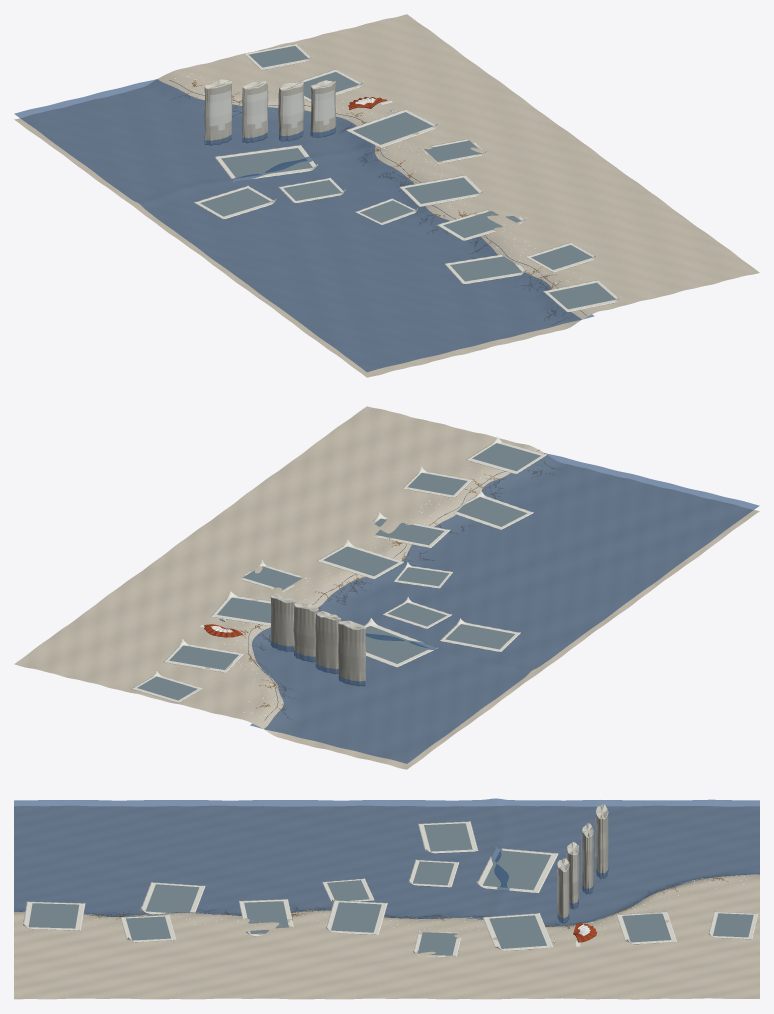
3 views of the same model, one above another, from view 1: azimuth 30°, elevation 25°; view 2: azimuth 150°, elevation 25°; view 3: azimuth 270°, elevation 25° (orthographic). The views are drawn at different scales.
Parts seen in each view (by area): view 1: shore_bed_04, shore_bed_06, shore_bed_05, shore_bed_00, shore_bed_03, shore_bed_01, shore_bed_02, sea_surface_06, sea_surface_04, sea_surface_05, sea_surface_03, sea_surface_01 (+21 smaller); view 2: shore_bed_06, shore_bed_00, shore_bed_04, shore_bed_05, shore_bed_01, shore_bed_03, shore_bed_02, sea_surface_06, sea_surface_04, sea_surface_05, sea_surface_01, sea_surface_03 (+20 smaller); view 3: shore_bed_04, shore_bed_06, shore_bed_00, shore_bed_05, shore_bed_03, shore_bed_01, shore_bed_02, sea_surface_06, sea_surface_04, sea_surface_05, sea_surface_03, sea_surface_01 (+32 smaller).
Part boxes in pixels (x1,y1,x2,y2): shore_bed_04: (216, 162, 658, 303); shore_bed_06: (317, 235, 759, 377); shore_bed_05: (266, 198, 708, 340); shore_bed_00: (14, 14, 456, 155); shore_bed_03: (165, 125, 607, 266); shore_bed_01: (65, 51, 507, 192); shore_bed_02: (115, 88, 557, 230); sea_surface_06: (317, 280, 593, 371); sea_surface_04: (216, 210, 487, 298); sea_surface_05: (266, 244, 541, 335); sea_surface_03: (166, 168, 427, 261); sea_surface_01: (65, 107, 356, 187); shore_bed_06: (317, 406, 759, 547); shore_bed_00: (14, 627, 456, 769); shore_bed_04: (216, 479, 658, 621); shore_bed_05: (266, 442, 709, 584); shore_bed_01: (64, 590, 507, 732); shore_bed_03: (165, 517, 608, 659); shore_bed_02: (115, 554, 557, 695); sea_surface_06: (484, 453, 759, 542); sea_surface_04: (400, 525, 658, 616); sea_surface_05: (438, 487, 708, 579); sea_surface_01: (252, 630, 507, 726); sea_surface_03: (330, 565, 608, 652); shore_bed_04: (227, 806, 333, 999); shore_bed_06: (14, 806, 120, 999); shore_bed_00: (653, 806, 759, 998); shore_bed_05: (120, 806, 226, 999); shore_bed_03: (333, 806, 440, 999); shore_bed_01: (547, 806, 653, 999); shore_bed_02: (440, 806, 546, 999); sea_surface_06: (14, 800, 120, 916); sea_surface_04: (227, 800, 333, 915); sea_surface_05: (120, 800, 226, 916); sea_surface_03: (333, 800, 440, 918); sea_surface_01: (547, 800, 653, 926).
Size of the model in its own units: 36 by 5.27 by 56.
10 materials, 4 textured.
